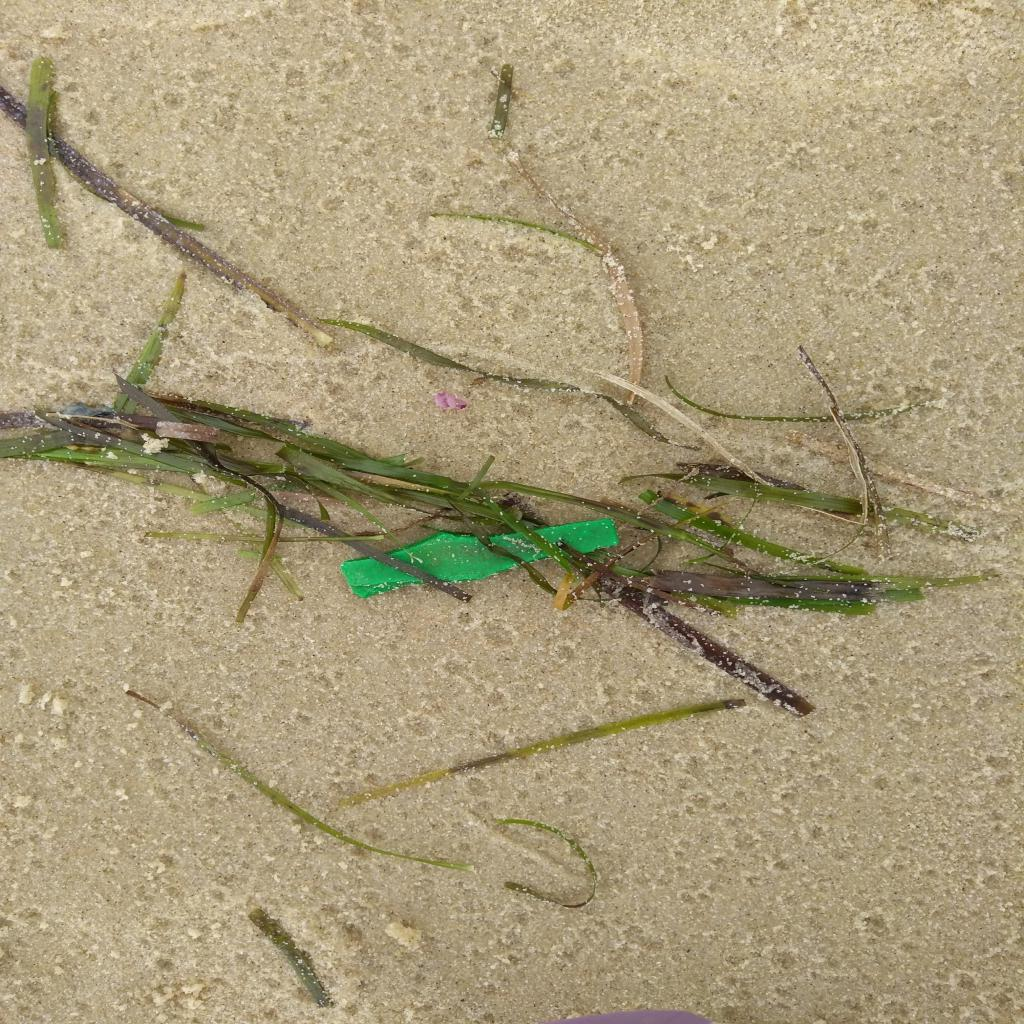Other plastic wrapper: (340, 518, 618, 598)
